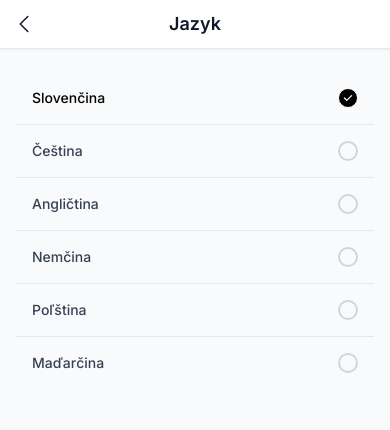
Test: mobile language settings header with the real language provider › updates the mobile header and persists choosing de
Click the button "Nemčina" at coordinates (62, 256), box x1=16 y1=231 x2=374 y2=283
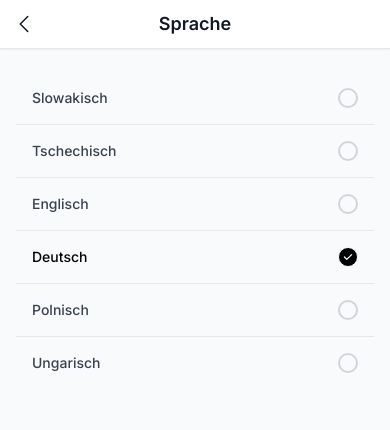
Expected: the 2nd icon is shown, x1=342 y1=251 x2=354 y2=263
Expected: the heading "Sprache" is shown, x1=159 y1=13 x2=231 y2=35
